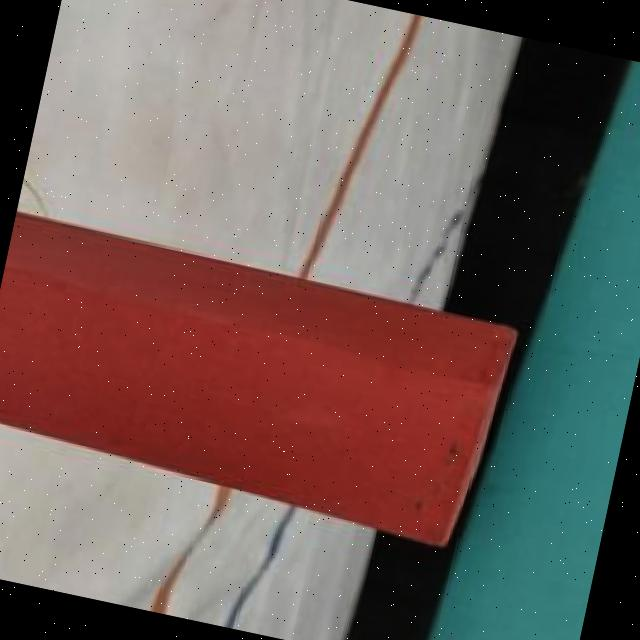redbox: (0, 212, 526, 551)
